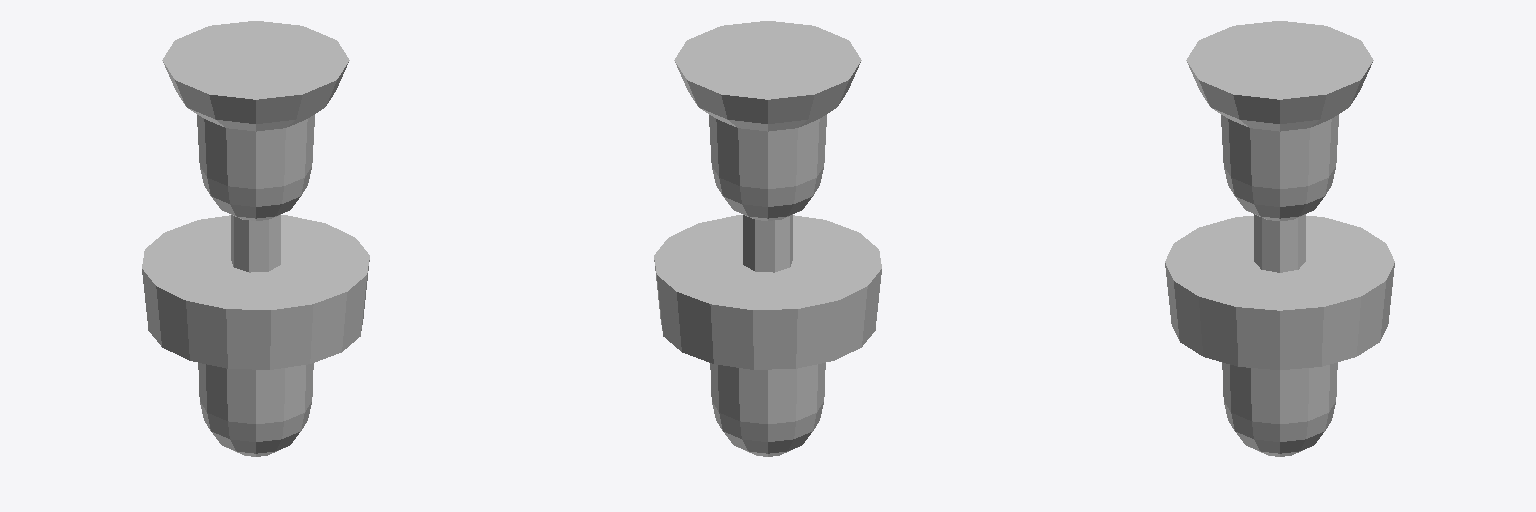
Rendered from CeilingFan_A__3__Mount_2.obj.
The picture shows the model from 3 angles: view 1: azimuth 30°, elevation 25°; view 2: azimuth 150°, elevation 25°; view 3: azimuth 270°, elevation 25°; orthographic projection.
Parts seen in each view (by area): view 1: Cylinder1; view 2: Cylinder1; view 3: Cylinder1.
Boxes of the visible parts, x1=… form: Cylinder1: x1=142, y1=21, x2=369, y2=456; Cylinder1: x1=654, y1=21, x2=881, y2=456; Cylinder1: x1=1165, y1=21, x2=1394, y2=456.
Size of the model in its own units: 2.12 by 3.99 by 2.12.